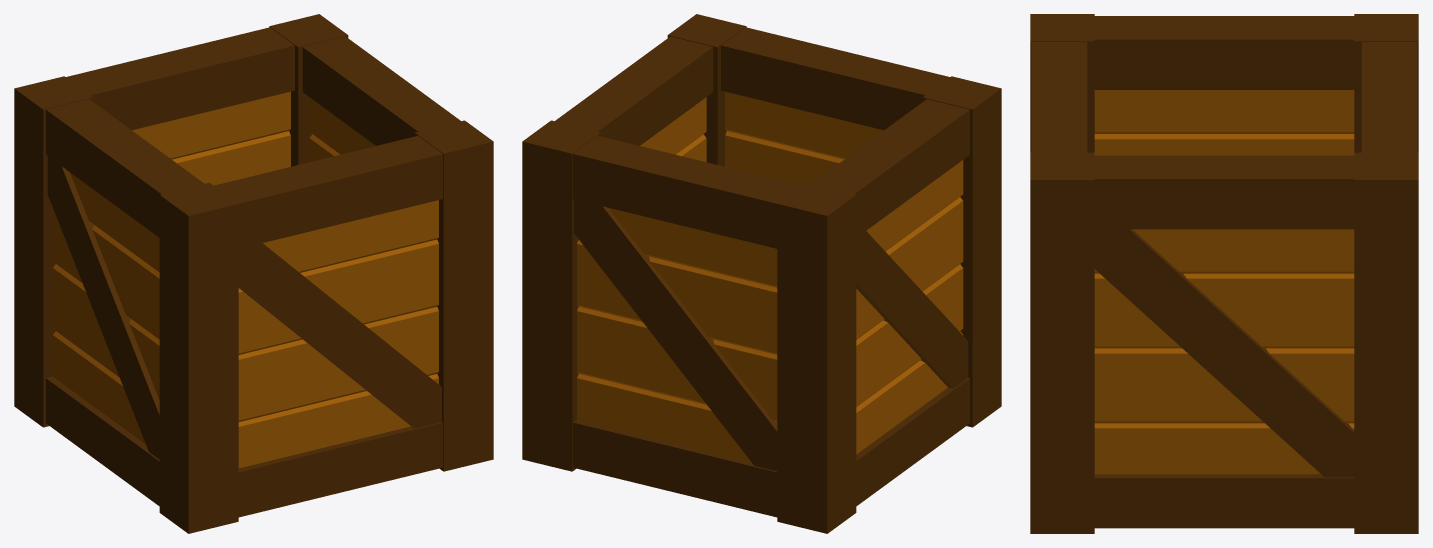
Rendered from empty crate.fbx.
3 renders of one model, left to right at view 1: azimuth 30°, elevation 25°; view 2: azimuth 150°, elevation 25°; view 3: azimuth 270°, elevation 25°, orthographic. The views are drawn at different scales.
Visible parts, largest first — view 1: empty crate; view 2: empty crate; view 3: empty crate.
Part boxes in pixels (x1,y1,x2,y2): empty crate: (14, 14, 493, 533); empty crate: (522, 14, 1001, 533); empty crate: (1030, 14, 1418, 533).
Bounding box in the file's own units: 238 × 237 × 235.
